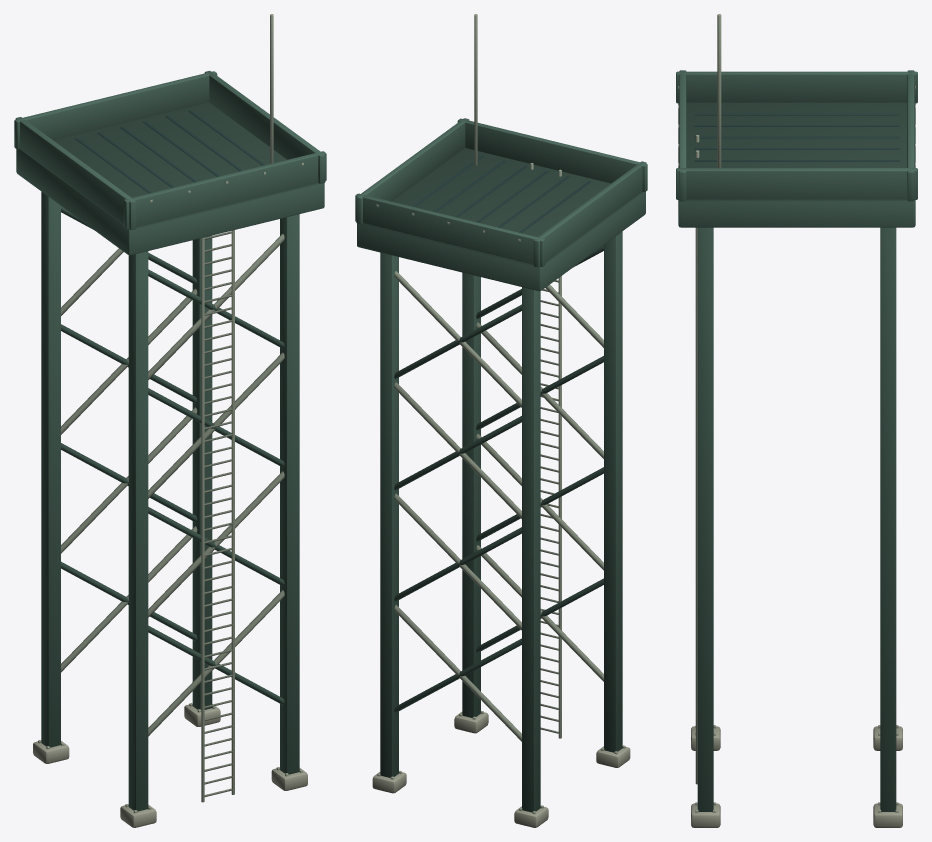
The model's file is kf-tower-15.glb.
The picture shows the model from 3 angles, left to right: view 1: azimuth 30°, elevation 25°; view 2: azimuth 150°, elevation 25°; view 3: azimuth 270°, elevation 25°; orthographic projection. The views are drawn at different scales.
Parts seen in each view (by area): view 1: Watchtower Tower paint, Watchtower Tower fittings, Watchtower Concrete feet, Watchtower Tread panels; view 2: Watchtower Tower paint, Watchtower Tower fittings, Watchtower Concrete feet, Watchtower Tread panels; view 3: Watchtower Tower paint, Watchtower Tower fittings, Watchtower Tread panels, Watchtower Concrete feet.
Boxes of the visible parts, x1,y1,x2,y2 form: Watchtower Tower paint: (14,70,326,811); Watchtower Tower fittings: (38,14,303,813); Watchtower Concrete feet: (33,704,307,827); Watchtower Tread panels: (75,110,265,193); Watchtower Tower paint: (355,118,647,812); Watchtower Tower fittings: (376,14,625,814); Watchtower Concrete feet: (372,712,630,827); Watchtower Tread panels: (412,155,590,232); Watchtower Tower paint: (676,70,917,811); Watchtower Tower fittings: (678,14,915,812); Watchtower Tread panels: (694,113,899,161); Watchtower Concrete feet: (691,726,902,827).
Size of the model in its own units: 5.3 by 19.4 by 5.3.
